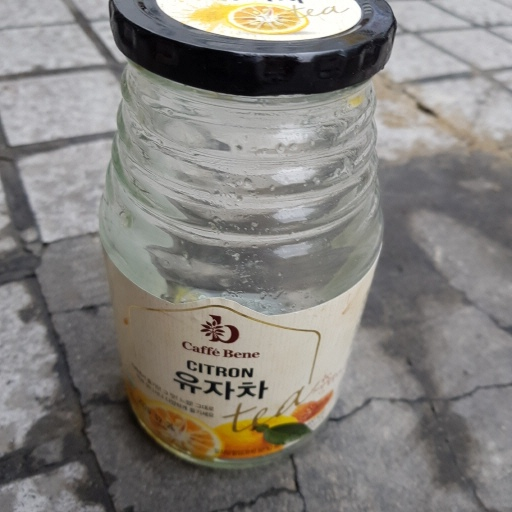Glass_5: (94, 1, 397, 466)
